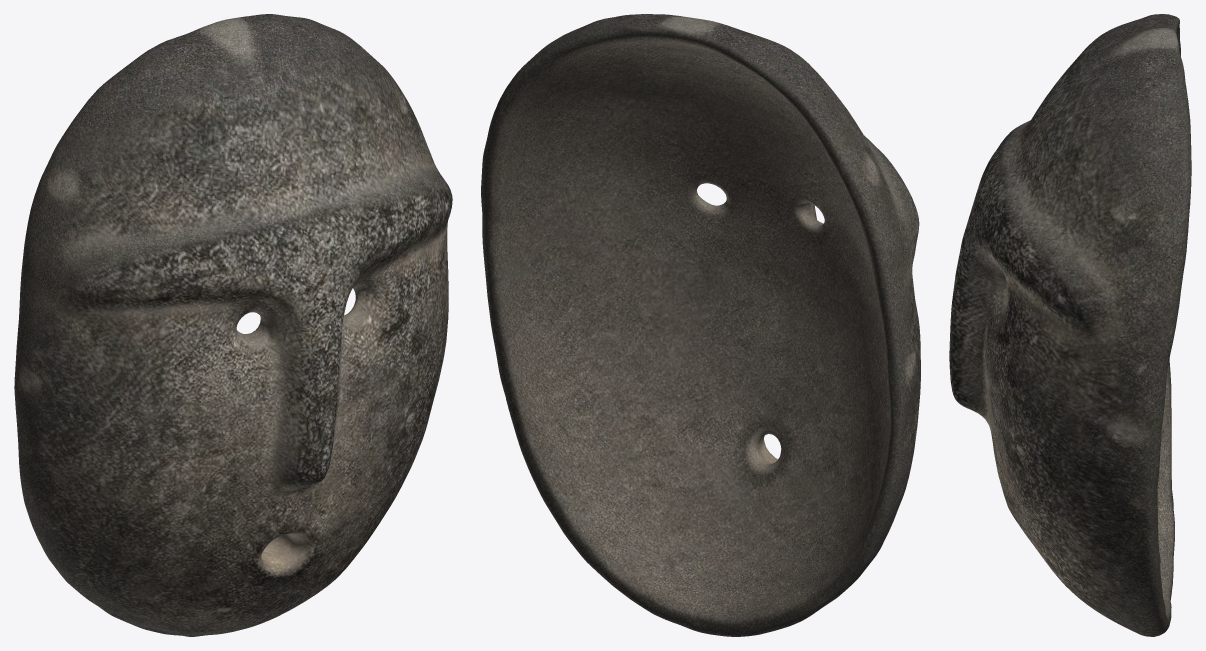
3 views of the same model, side by side, from view 1: azimuth 30°, elevation 25°; view 2: azimuth 150°, elevation 25°; view 3: azimuth 270°, elevation 25° (orthographic). The views are drawn at different scales.
Visible parts, largest first — view 1: Mesh_0; view 2: Mesh_0; view 3: Mesh_0.
Part boxes in pixels (x1,y1,x2,y2): Mesh_0: [14, 14, 452, 636]; Mesh_0: [481, 14, 920, 636]; Mesh_0: [949, 14, 1191, 636].
Size of the model in its own units: 1.39 by 1.9 by 0.7121.
1 material, 1 textured.
